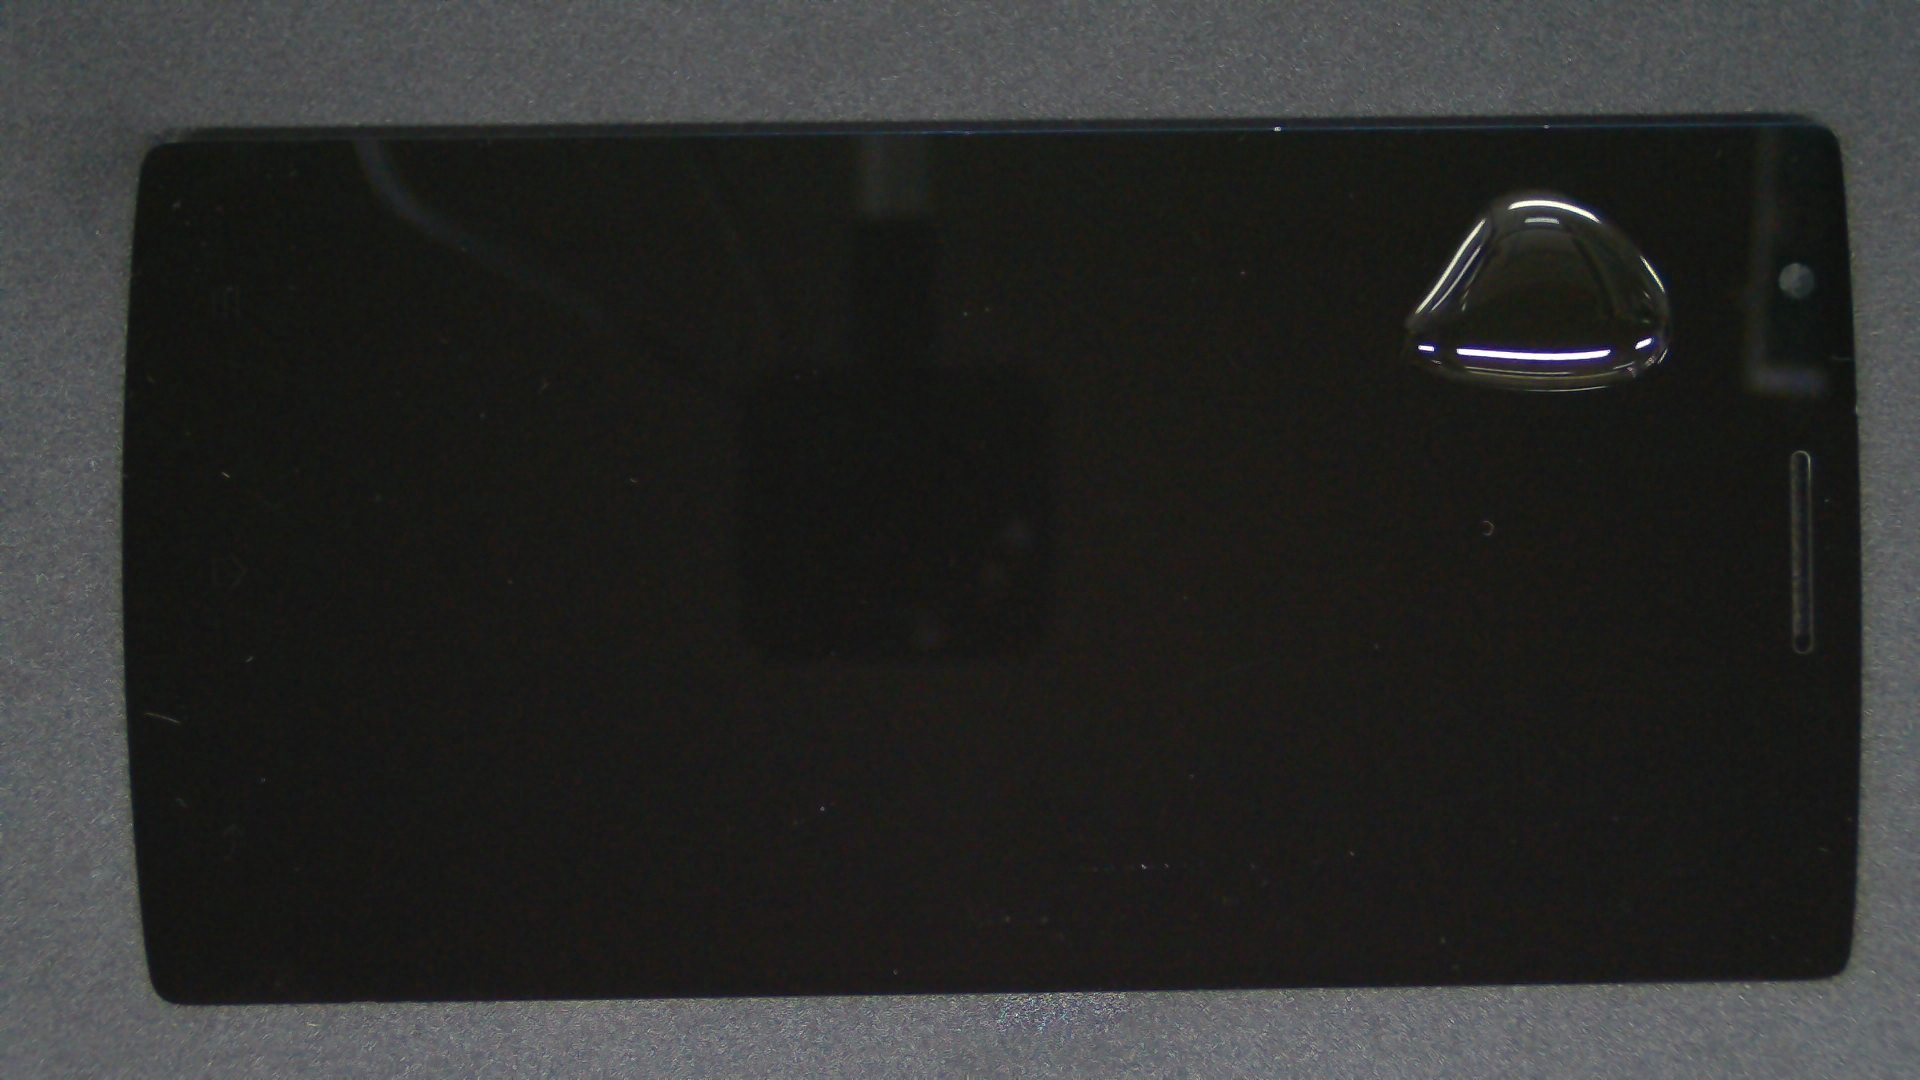oil: (774, 94, 1920, 282)
